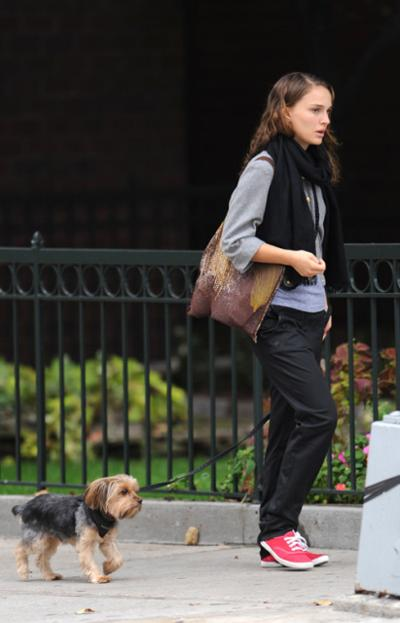person: (220, 72, 337, 564)
